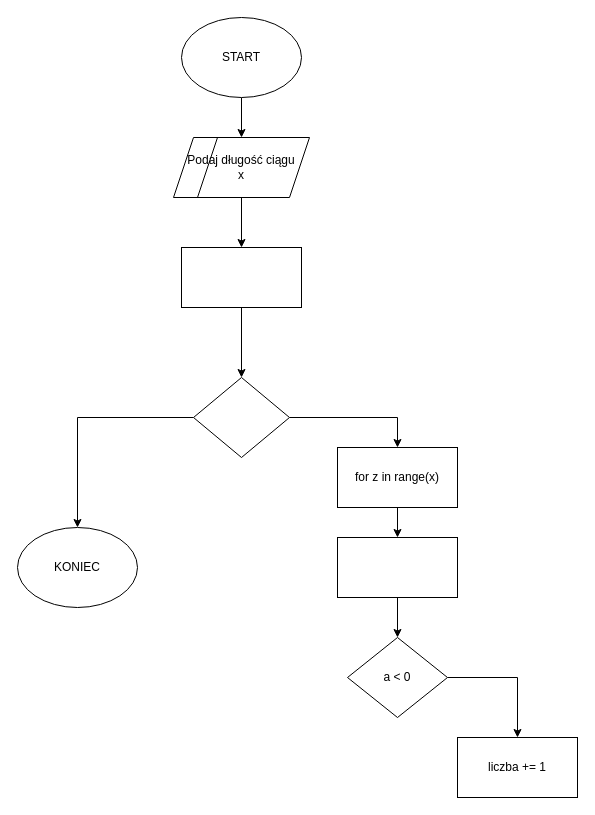
The diagram is 595 pixels wide and 815 high, and some of its shapes have lost their labels. Here are the shapes that lost their labels. From the top down, the box of each, then its label:
(180, 246, 302, 308): liczba = 0
(192, 376, 290, 458): x > 0
(336, 536, 458, 598): a = input podaj liczbe
